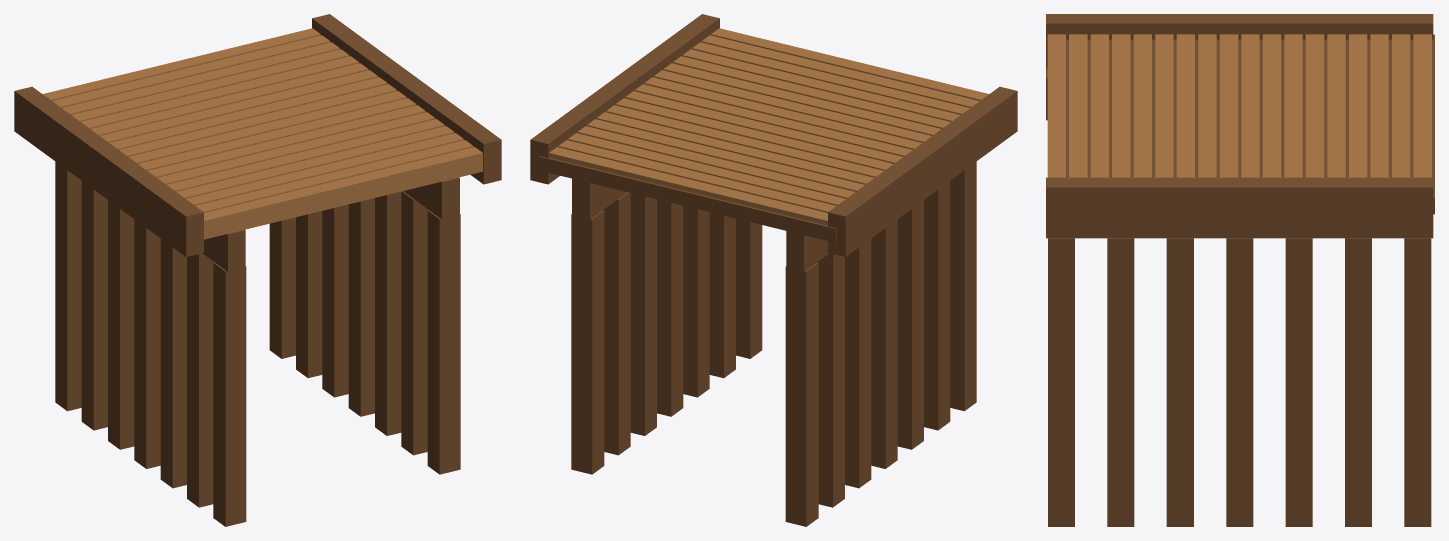
Rendered from kit-boardwalk-mid.glb.
3 renders of one model, left to right at view 1: azimuth 30°, elevation 25°; view 2: azimuth 150°, elevation 25°; view 3: azimuth 270°, elevation 25°, orthographic. The views are drawn at different scales.
Parts seen in each view (by area): view 1: boardwalk.001; view 2: boardwalk.001; view 3: boardwalk.001.
Boxes of the visible parts, box(x1,y1,x2,y2) form: boardwalk.001: box(14, 14, 501, 526); boardwalk.001: box(530, 14, 1017, 526); boardwalk.001: box(1046, 14, 1434, 526).
Size of the model in its own units: 1.06 by 1.03 by 1.
